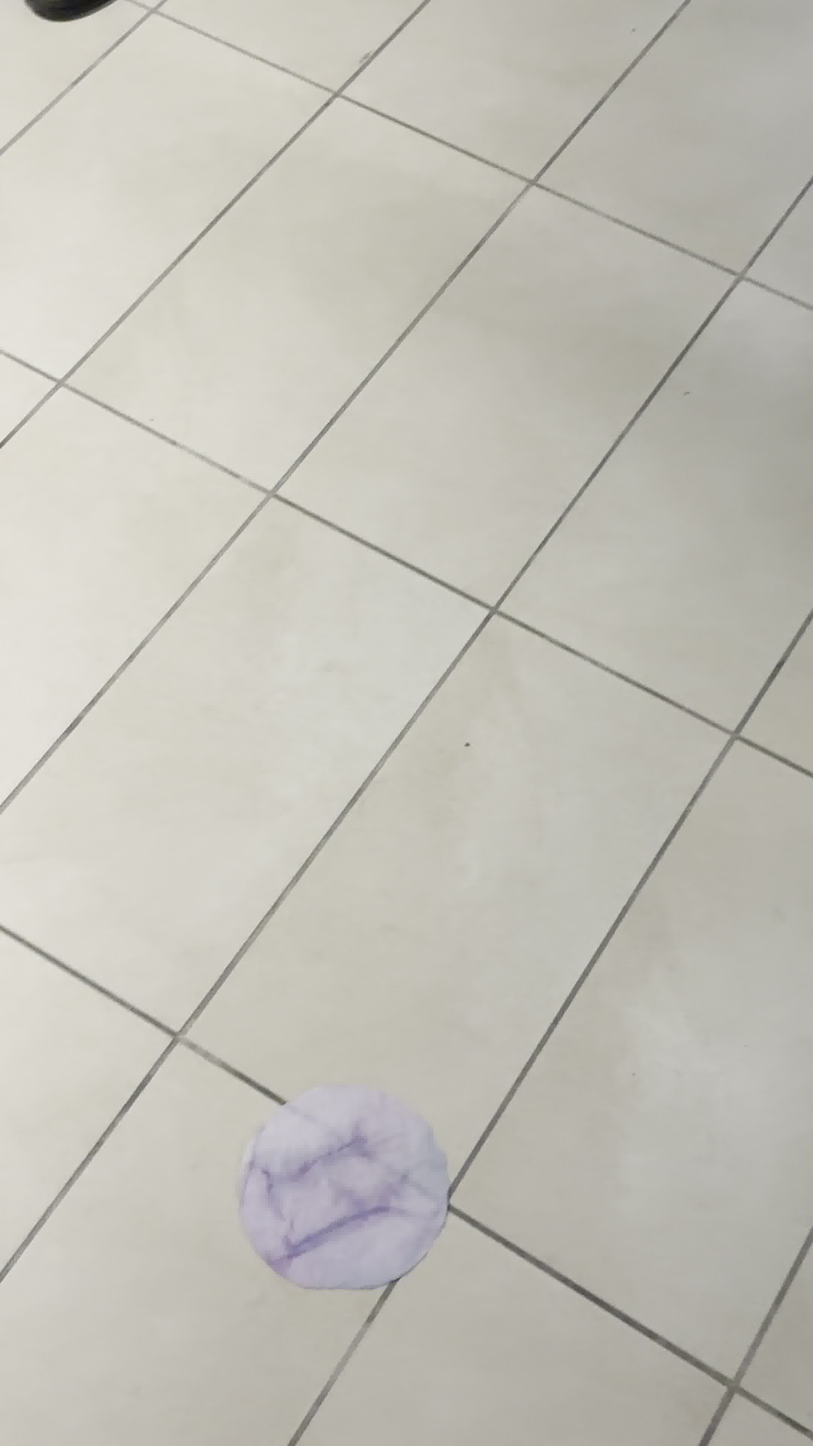Target: (234, 1083, 449, 1293)
